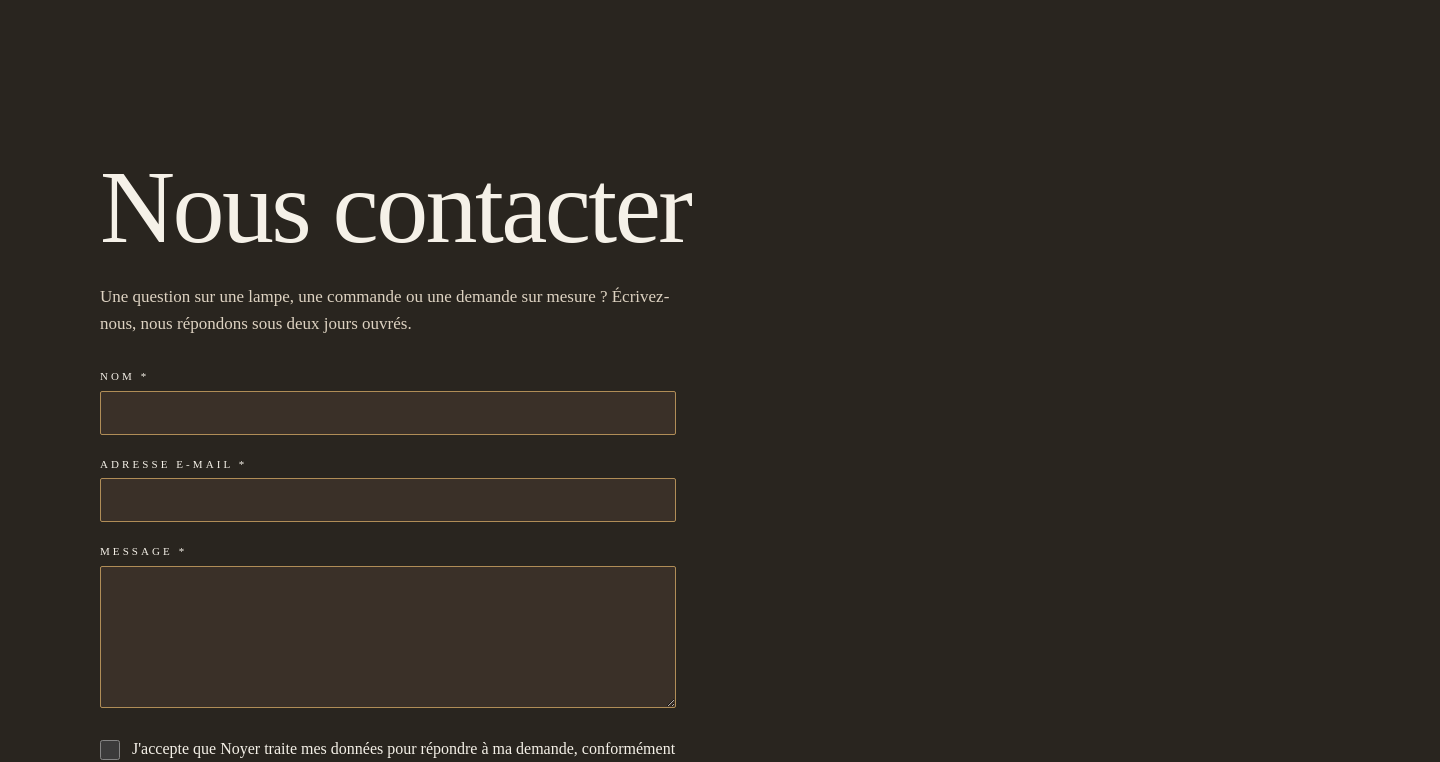
Page contact (E6-03) › envoie le message avec consentement et champ piège vide
Type "Alice" into the field labelled "Nom *" at (388, 413), box [100,391,676,435]
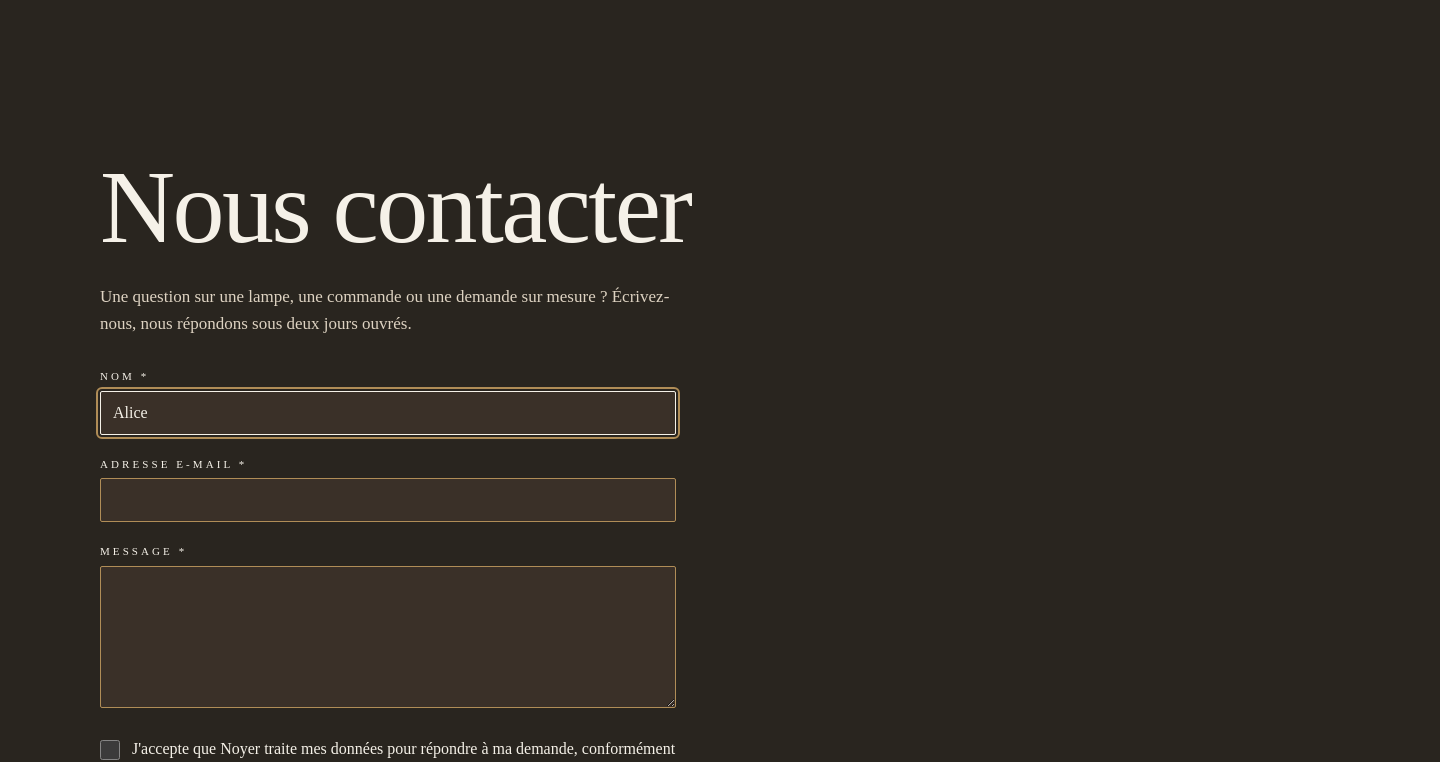
Type "a@b.ch" into the field labelled "Adresse e-mail *" at (388, 500), box [100,478,676,522]
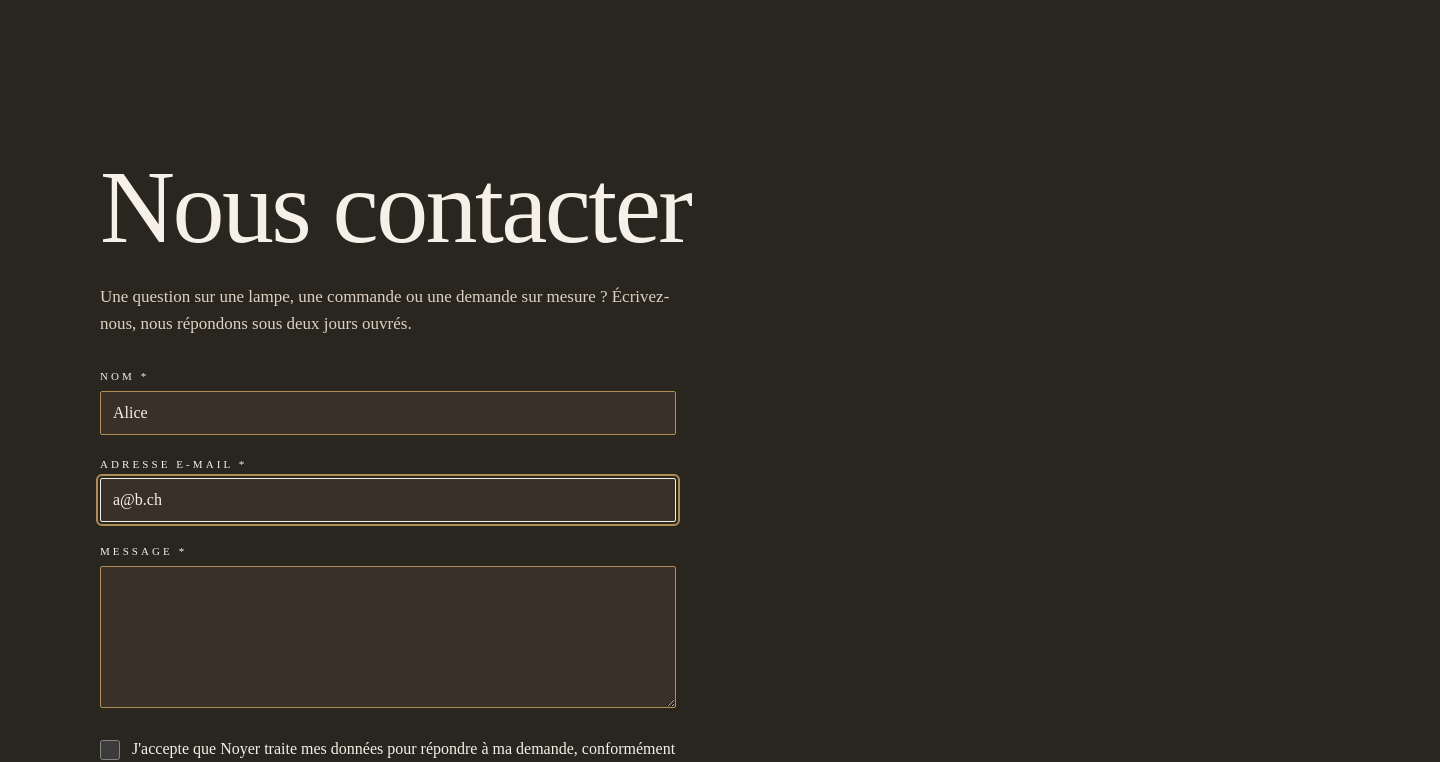
Type "Bonjour" into the text box labelled "Message *" at (388, 636), box [100,566,676,708]
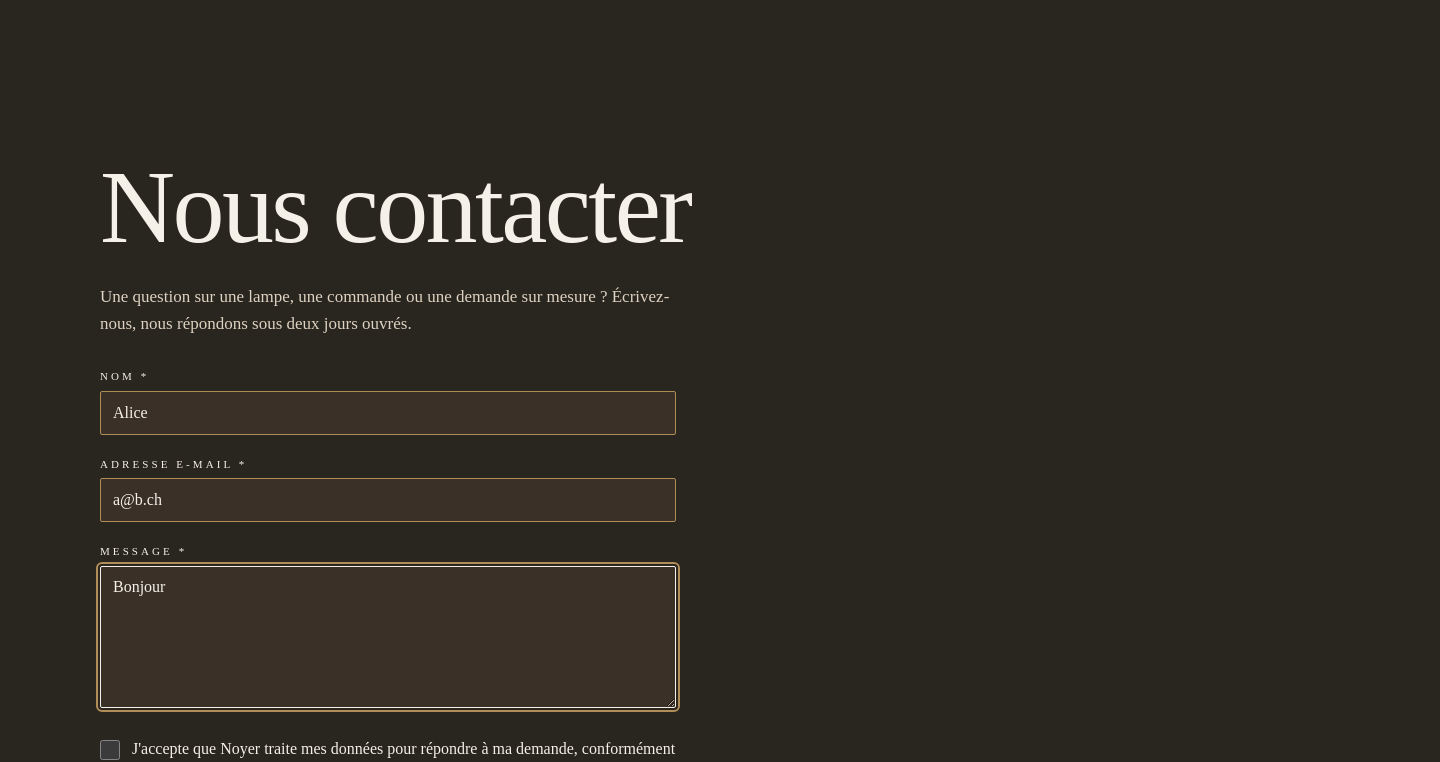
Click the checkbox at (110, 750), box [100,740,120,760]
(page scrolled)
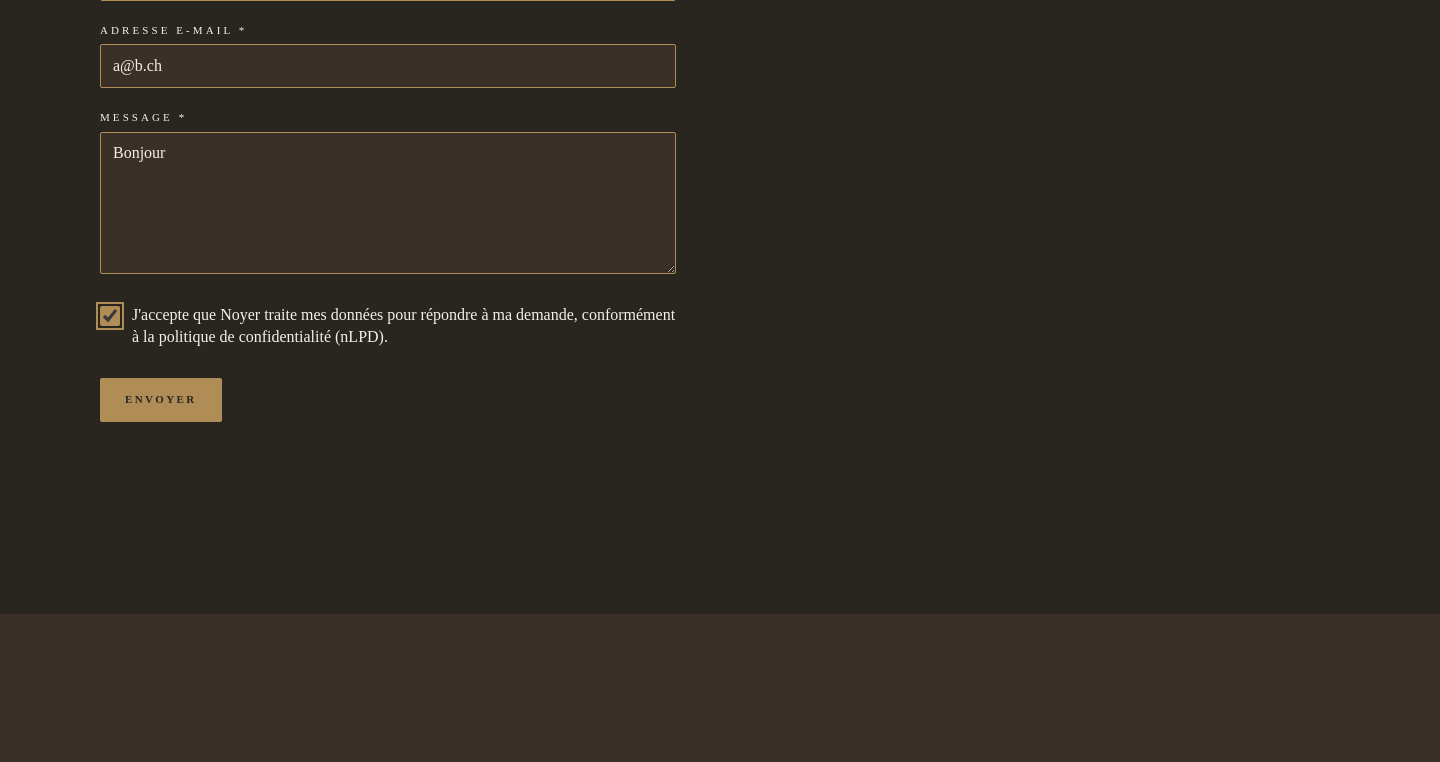
Click the button "Envoyer" at (161, 400), box [100,378,222,422]
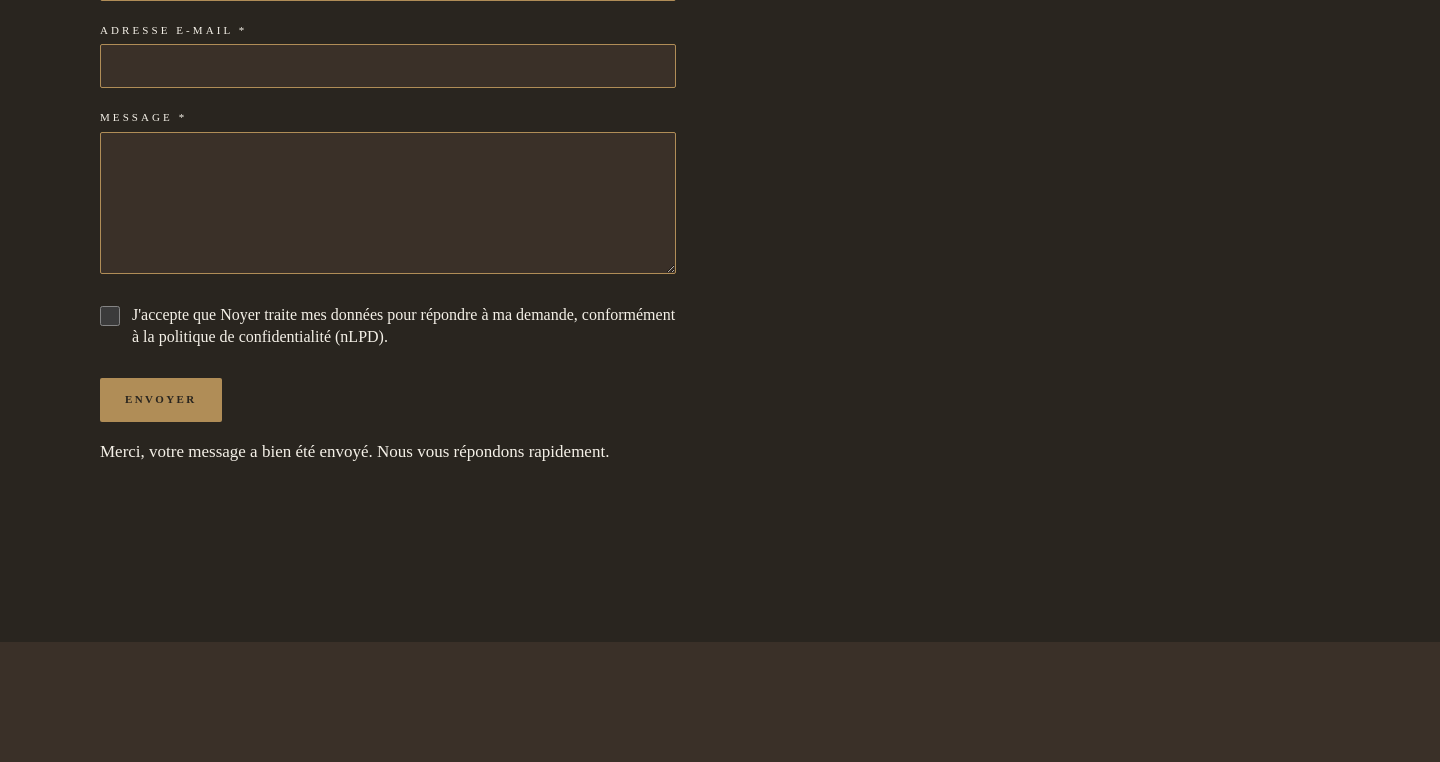
expect the text "Merci, votre message a bien été envoyé. Nous vous répondons rapidement." is shown: met, box [100,438,676,466]
